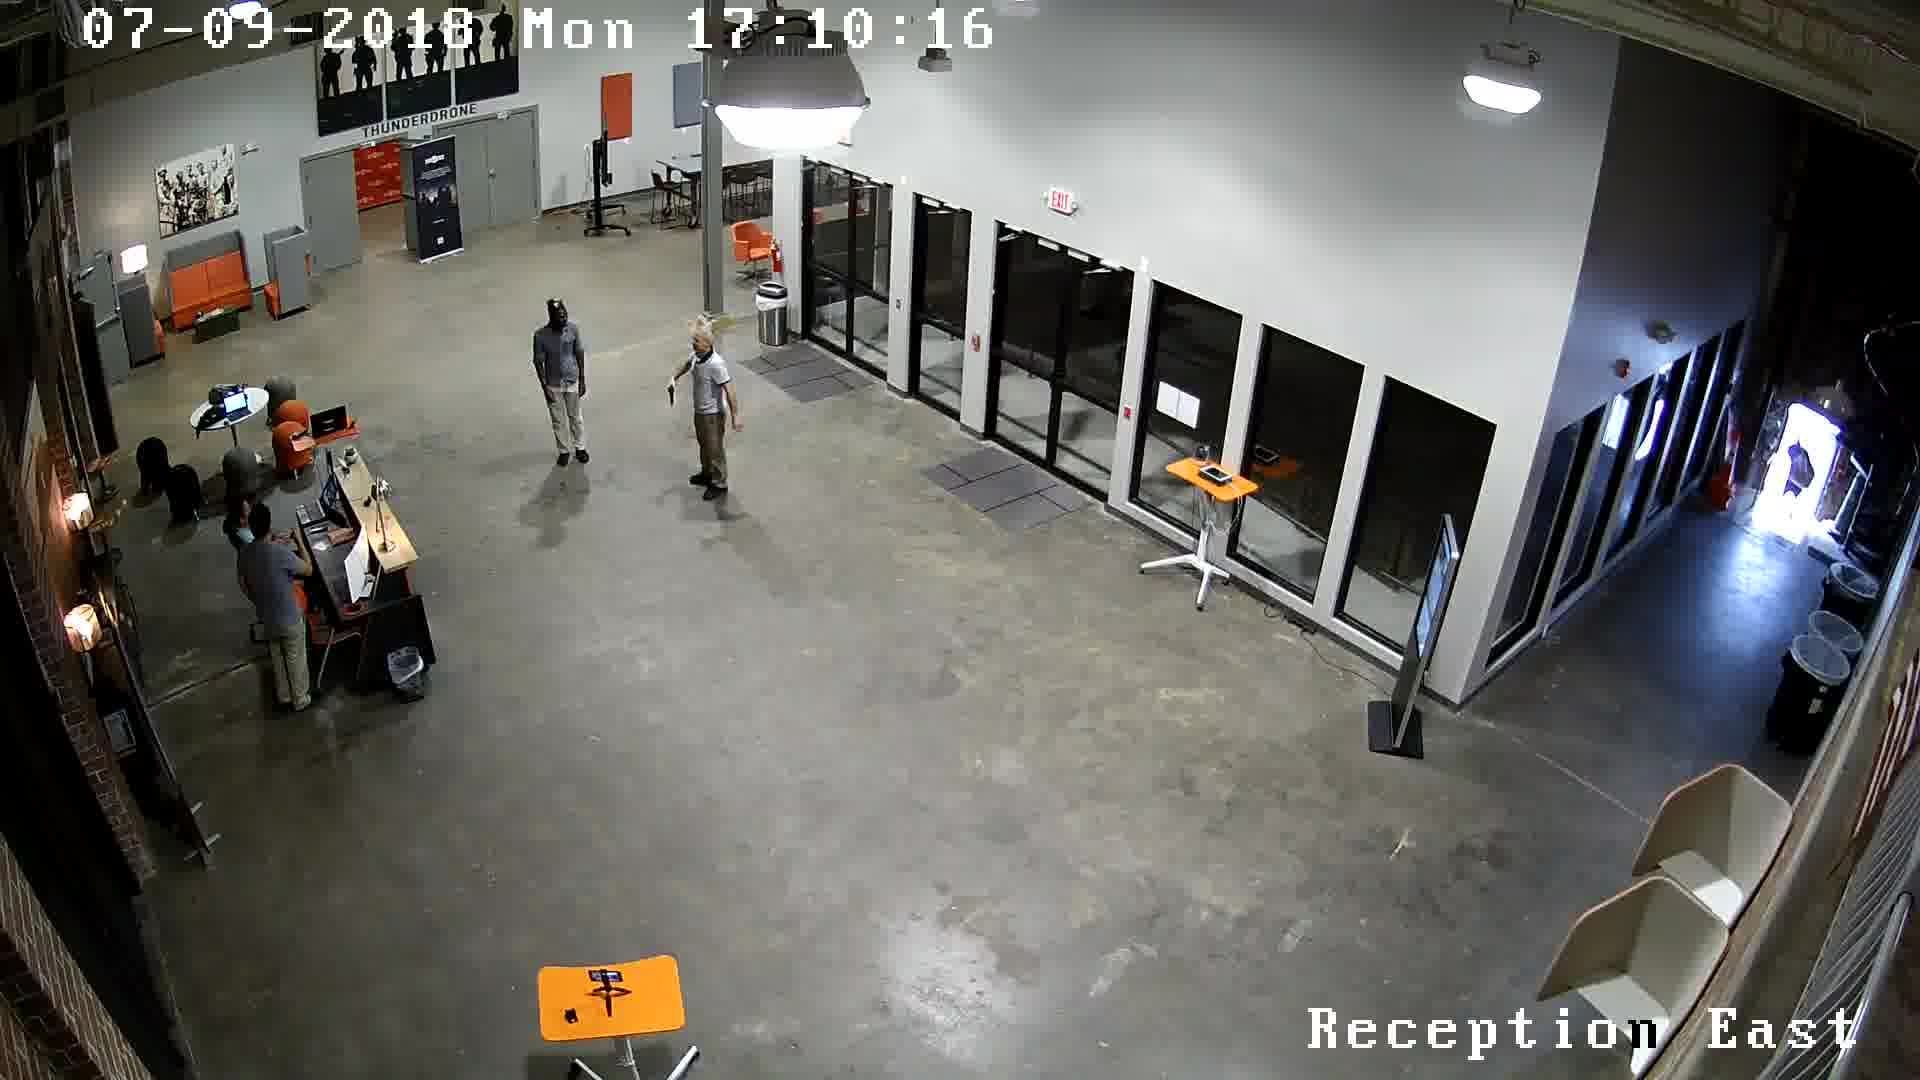pistol: (650, 368, 686, 415)
